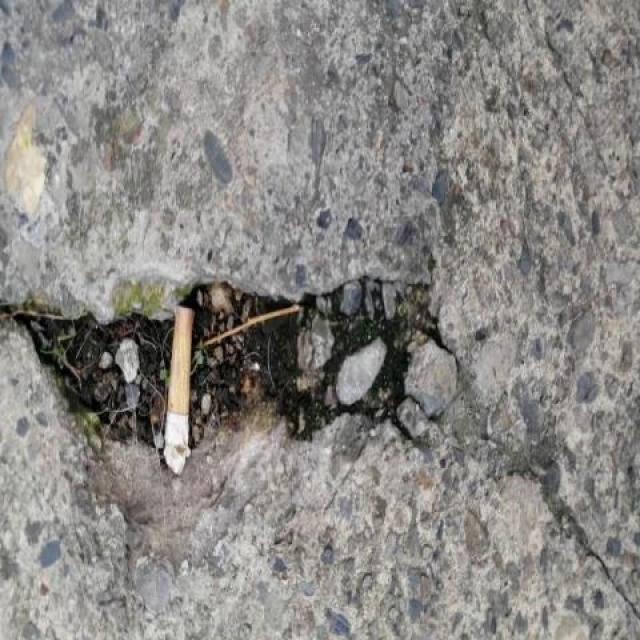non-organic waste: (157, 299, 199, 458)
